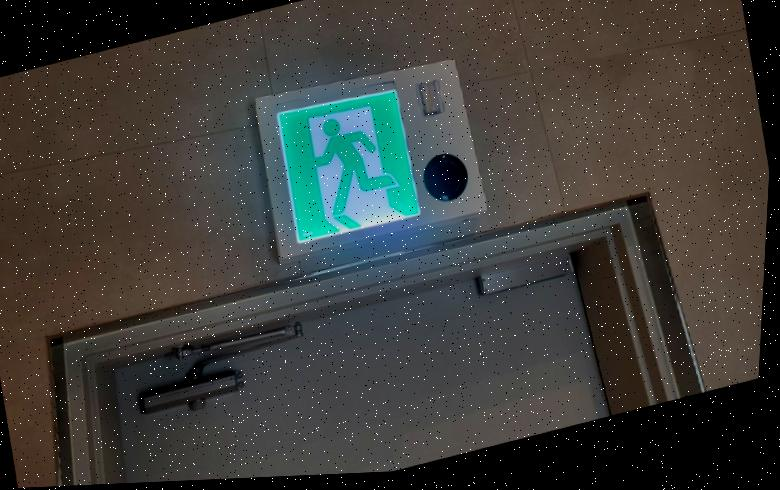emergency_exit: (253, 58, 487, 265)
